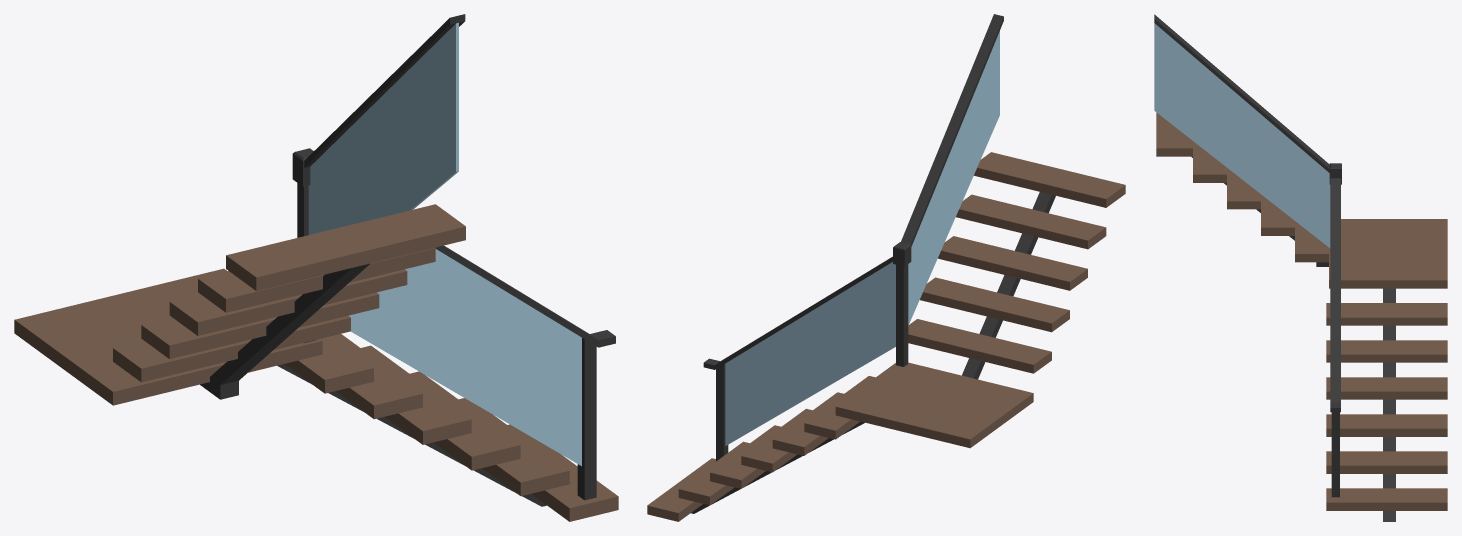
The model's file is Stairs2_C4.fbx.
3 views of the same model, side by side, from view 1: azimuth 30°, elevation 25°; view 2: azimuth 150°, elevation 25°; view 3: azimuth 270°, elevation 25° (orthographic). The views are drawn at different scales.
Visible parts, largest first — view 1: Stairs2_C4; view 2: Stairs2_C4; view 3: Stairs2_C4.
Boxes of the visible parts, left/top/right/bottom form: Stairs2_C4: left=14, top=14, right=618, bottom=521; Stairs2_C4: left=647, top=14, right=1125, bottom=521; Stairs2_C4: left=1154, top=14, right=1447, bottom=521.
Bounding box in the file's own units: 3.01 × 3.97 × 2.52.
